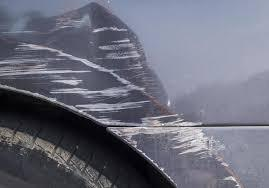dent: (52, 1, 176, 116)
scratch: (0, 10, 250, 187)
